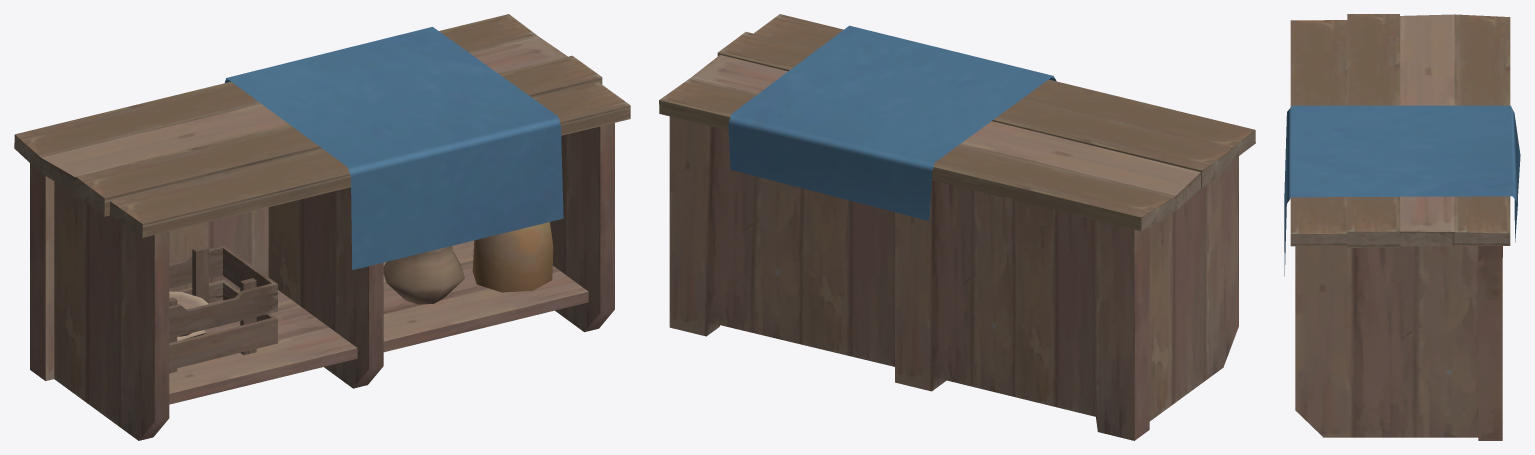
File: Homeworld_Exterior_Md_Table_Table_01_Vo.fbx
The picture shows the model from 3 angles, left to right: view 1: azimuth 30°, elevation 25°; view 2: azimuth 150°, elevation 25°; view 3: azimuth 270°, elevation 25°; orthographic projection. The views are drawn at different scales.
Visible parts, largest first — view 1: Homeworld_Exterior_Md_Table_Table_01_Vo; view 2: Homeworld_Exterior_Md_Table_Table_01_Vo; view 3: Homeworld_Exterior_Md_Table_Table_01_Vo.
Part boxes in pixels (box(x1,y1,x2,y2)): Homeworld_Exterior_Md_Table_Table_01_Vo: box(14, 14, 630, 440); Homeworld_Exterior_Md_Table_Table_01_Vo: box(659, 14, 1255, 440); Homeworld_Exterior_Md_Table_Table_01_Vo: box(1284, 14, 1520, 440).
Size of the model in its own units: 1.94 by 0.8838 by 0.8806.
